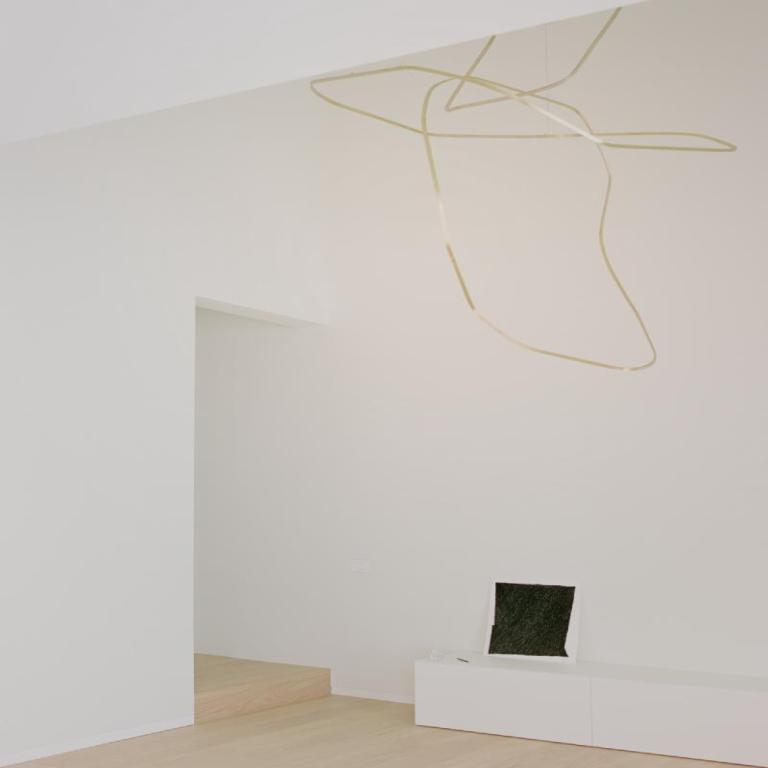white-walls: (32, 36, 455, 719)
